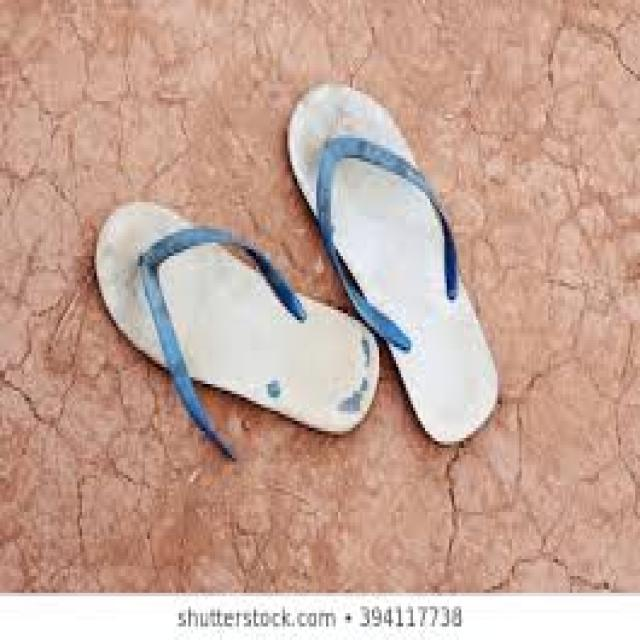other: (290, 84, 500, 445), (97, 202, 379, 443)
